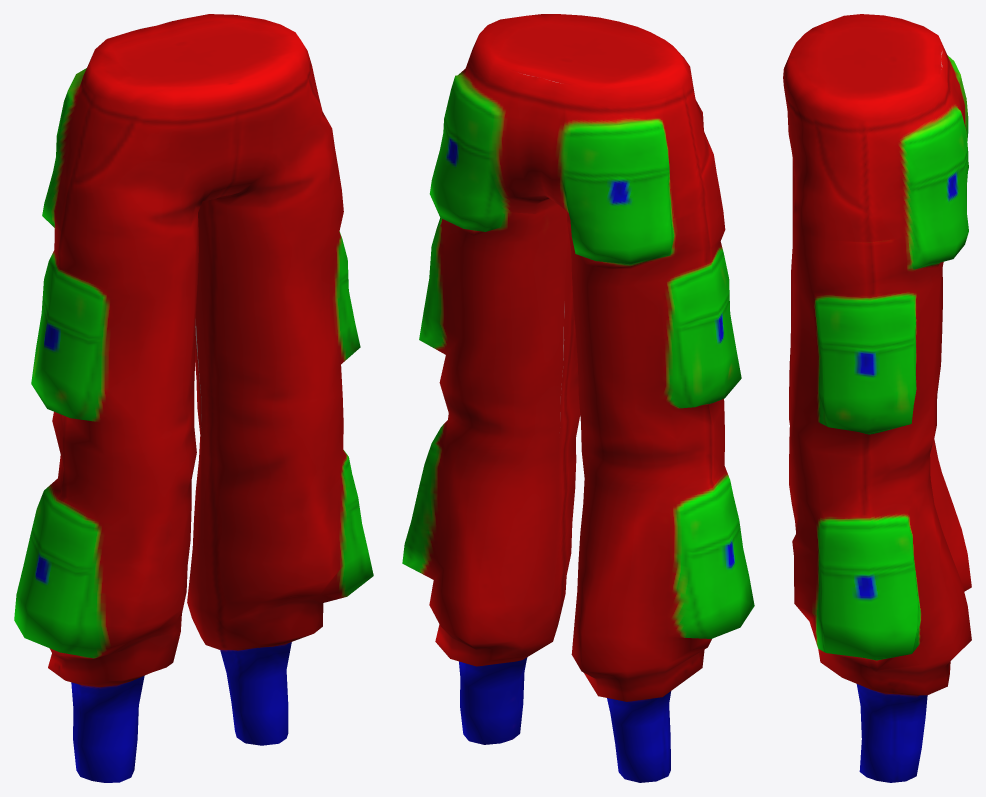
Rendered from Bottom_CargoPantsShort.obj.
3 renders of one model, left to right at view 1: azimuth 30°, elevation 25°; view 2: azimuth 150°, elevation 25°; view 3: azimuth 270°, elevation 25°, orthographic. The views are drawn at different scales.
Parts seen in each view (by area): view 1: Bottom_CargoPantsShort_0; view 2: Bottom_CargoPantsShort_0; view 3: Bottom_CargoPantsShort_0.
Boxes of the visible parts, x1,y1,x2,y2 form: Bottom_CargoPantsShort_0: (14,14,373,782); Bottom_CargoPantsShort_0: (402,14,754,782); Bottom_CargoPantsShort_0: (783,14,971,782).
Size of the model in its own units: 0.4803 by 0.9699 by 0.2455.
Materials: 1 (1 with a texture image).
